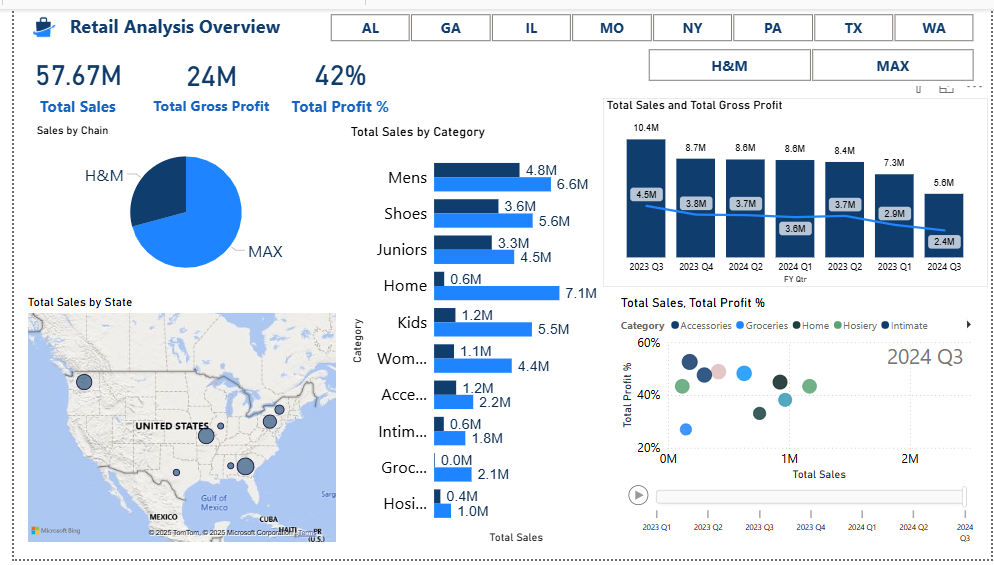

The dashboard page shown, as its layout file describes it:
{"tool":"powerbi","page":{"name":"Overview","canvas":[1280,720],"ordinal":0},"visuals":[{"type":"card","fields":{"Values":["Sales.Total Sales"]},"box":[13,50.4,141.1,95],"z":0},{"type":"card","fields":{"Values":["Sales.Total Gross Profit"]},"box":[172.8,50.4,171.4,95],"z":1000},{"type":"card","fields":{"Values":["Sales.Total Profit %"]},"box":[355.7,50.4,142.6,95],"z":2000},{"type":"lineClusteredColumnComboChart","title":"Total Sales and Total Gross Profit ","fields":{"Category":["Dates.FY Qtr"],"Y":["Sales.Total Sales"],"Y2":["Sales.Total Gross Profit"]},"box":[770.4,116.6,504,247.7],"z":3000},{"type":"map","fields":{"Size":["Sales.Total Sales"],"Category":["States.State"]},"box":[13,374.4,413.3,328.3],"z":4000},{"type":"pieChart","title":"Sales by Chain","fields":{"Y":["Sum(Sales.Sales)"],"Category":["Sales.Chain"]},"box":[24.8,150,400.5,214.7],"z":6000},{"type":"scatterChart","title":"Total Sales, Total Profit % ","fields":{"X":["Sales.Total Sales"],"Y":["Sales.Total Profit %"],"Series":["Sales.Category"],"Size":["Sales.Total Profit %"],"Play":["Dates.FY Qtr"]},"box":[789.1,374.4,479.5,328.3],"z":7000},{"type":"clusteredBarChart","title":"Total Sales by Category","fields":{"Category":["Sales.Category"],"Y":["Sales.Total Sales"],"Series":["Sales.Chain"]},"box":[436.3,150,334.5,553.3],"z":8000},{"type":"slicer","title":"Chain","fields":{"Values":["Sales.Chain"]},"box":[805,46.1,475.2,54.7],"z":9000},{"type":"slicer","fields":{"Values":["States.State"]},"box":[388.8,0,891.4,46.1],"z":10000},{"type":"textbox","box":[67.7,0,288,46.1],"z":11000},{"type":"image","box":[13,0,50.4,50.4],"z":12000}]}

Visuals, with their boxes in screenshot pixels (x1, y1, x2, y2), scaled from the page's 1280x720 canvas onto the 994x565 screenshot:
card - Sales.Total Sales: select_region(10, 40, 120, 114)
card - Sales.Total Gross Profit: select_region(134, 40, 267, 114)
card - Sales.Total Profit %: select_region(276, 40, 387, 114)
"Total Sales and Total Gross Profit " lineClusteredColumnComboChart: select_region(598, 91, 990, 286)
map - Sales.Total Sales x States.State: select_region(10, 294, 331, 551)
"Sales by Chain" pieChart: select_region(19, 118, 330, 286)
"Total Sales, Total Profit % " scatterChart: select_region(613, 294, 985, 551)
"Total Sales by Category" clusteredBarChart: select_region(339, 118, 599, 552)
"Chain" slicer: select_region(625, 36, 993, 79)
slicer - States.State: select_region(302, 0, 993, 36)
textbox: select_region(53, 0, 276, 36)
image: select_region(10, 0, 49, 40)
